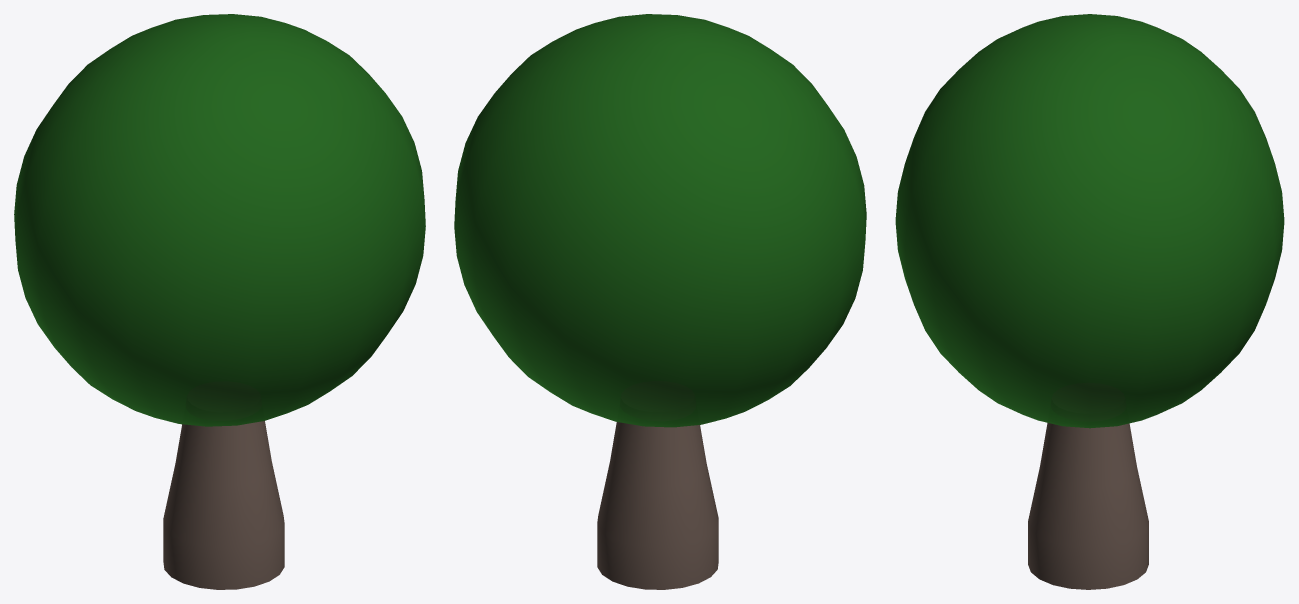
The model's file is Arbre 2.fbx.
3 views of the same model, side by side, from view 1: azimuth 30°, elevation 25°; view 2: azimuth 150°, elevation 25°; view 3: azimuth 270°, elevation 25° (orthographic).
Parts seen in each view (by area): view 1: pasted__polySurface6; view 2: pasted__polySurface6; view 3: pasted__polySurface6.
Boxes of the visible parts, x1,y1,x2,y2 form: pasted__polySurface6: (14, 14, 425, 589); pasted__polySurface6: (454, 14, 866, 589); pasted__polySurface6: (895, 14, 1284, 589).
Bounding box in the file's own units: 2.41 × 3.35 × 2.24.
